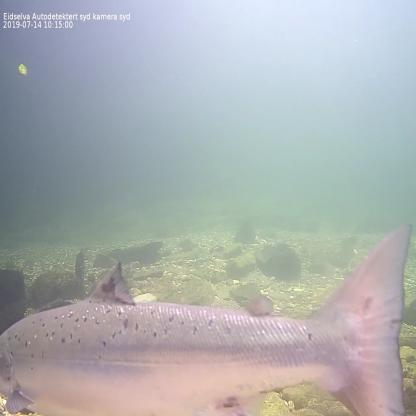salmon: (0, 222, 415, 415)
